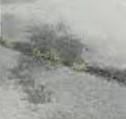pothole: (12, 21, 103, 97)
